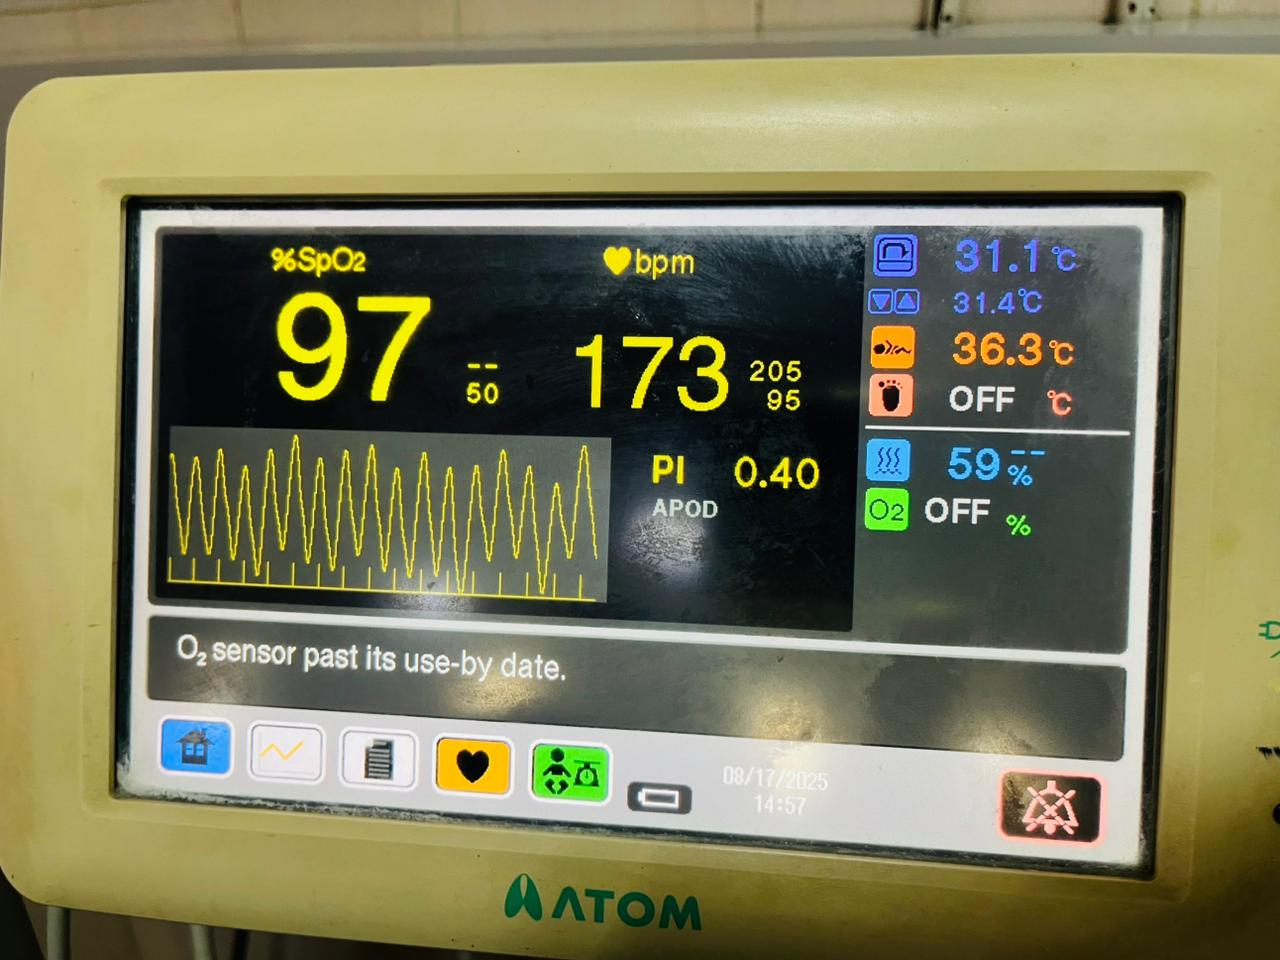heart_rate_value: (564, 317, 741, 423)
humidity_value: (932, 433, 1006, 492)
skin_temp_value: (941, 318, 1045, 380)
spo2_value: (253, 274, 446, 416)
